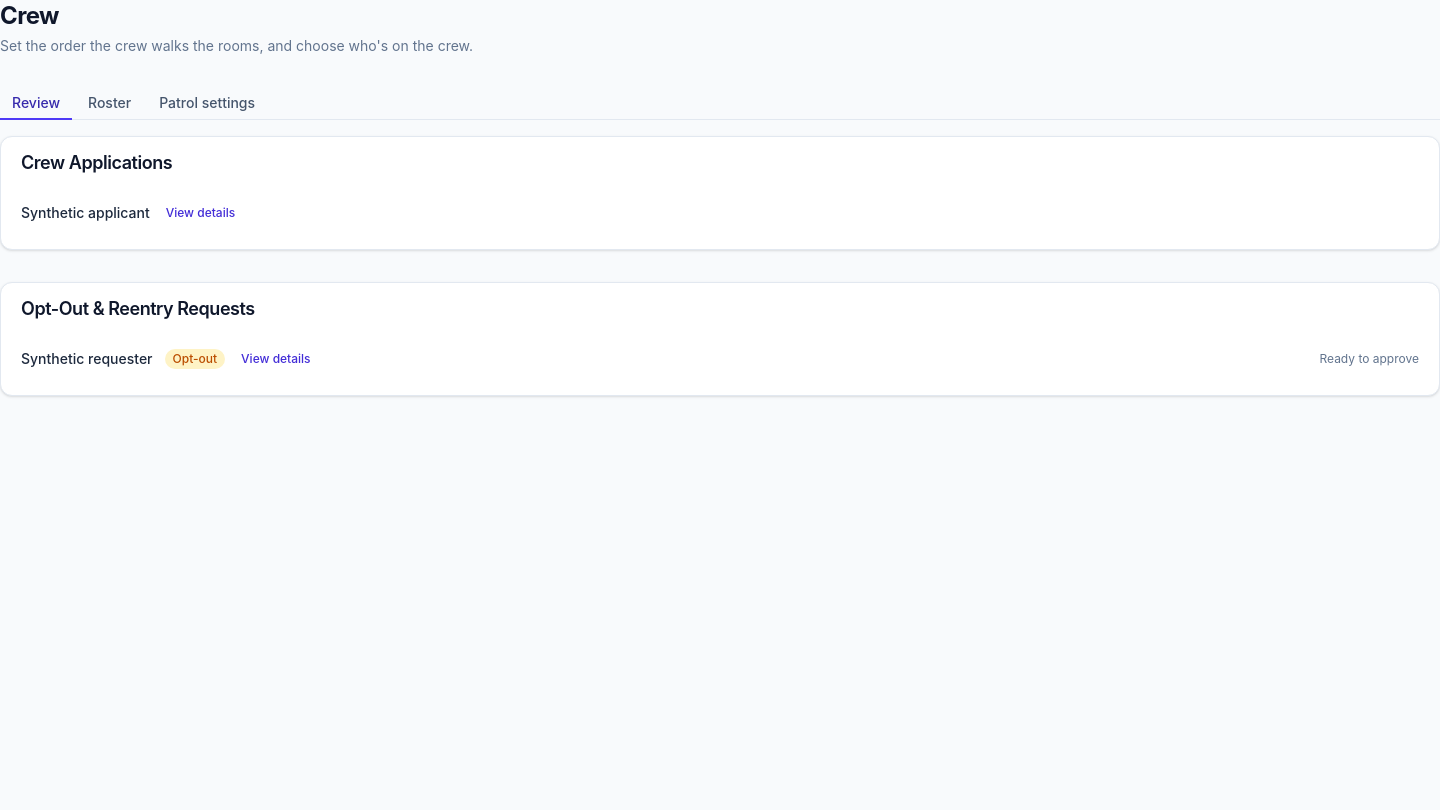
uses only current projected identity for a nameless crew summary (null)
Step 1. Click the tab "Roster" → x=110, y=104, box [76,88,143,120]
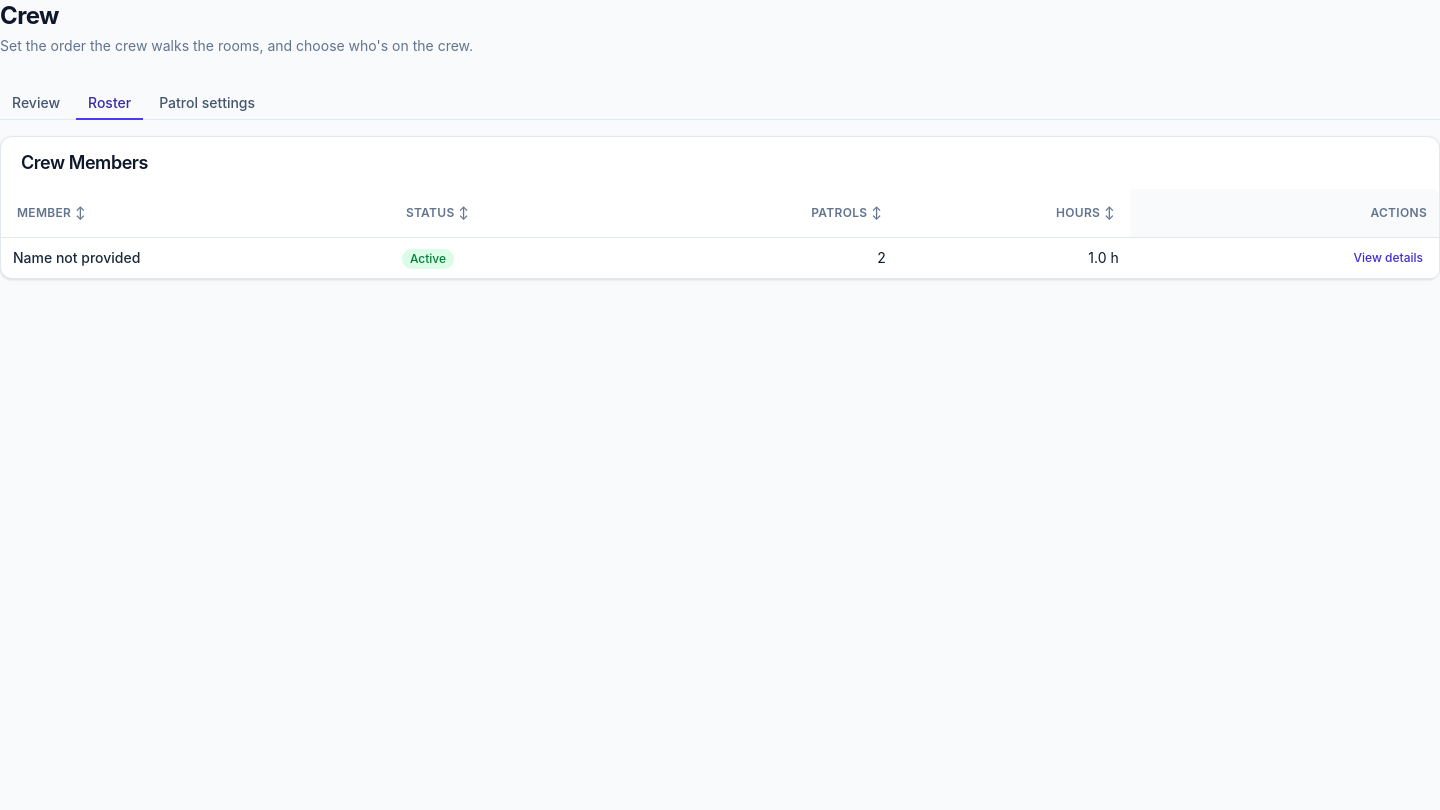
Expected: the cell "Name not provided" is shown, [1,238,390,278]
Step 2. Click the button "View details" → x=1388, y=258, box [1350,246,1427,270]
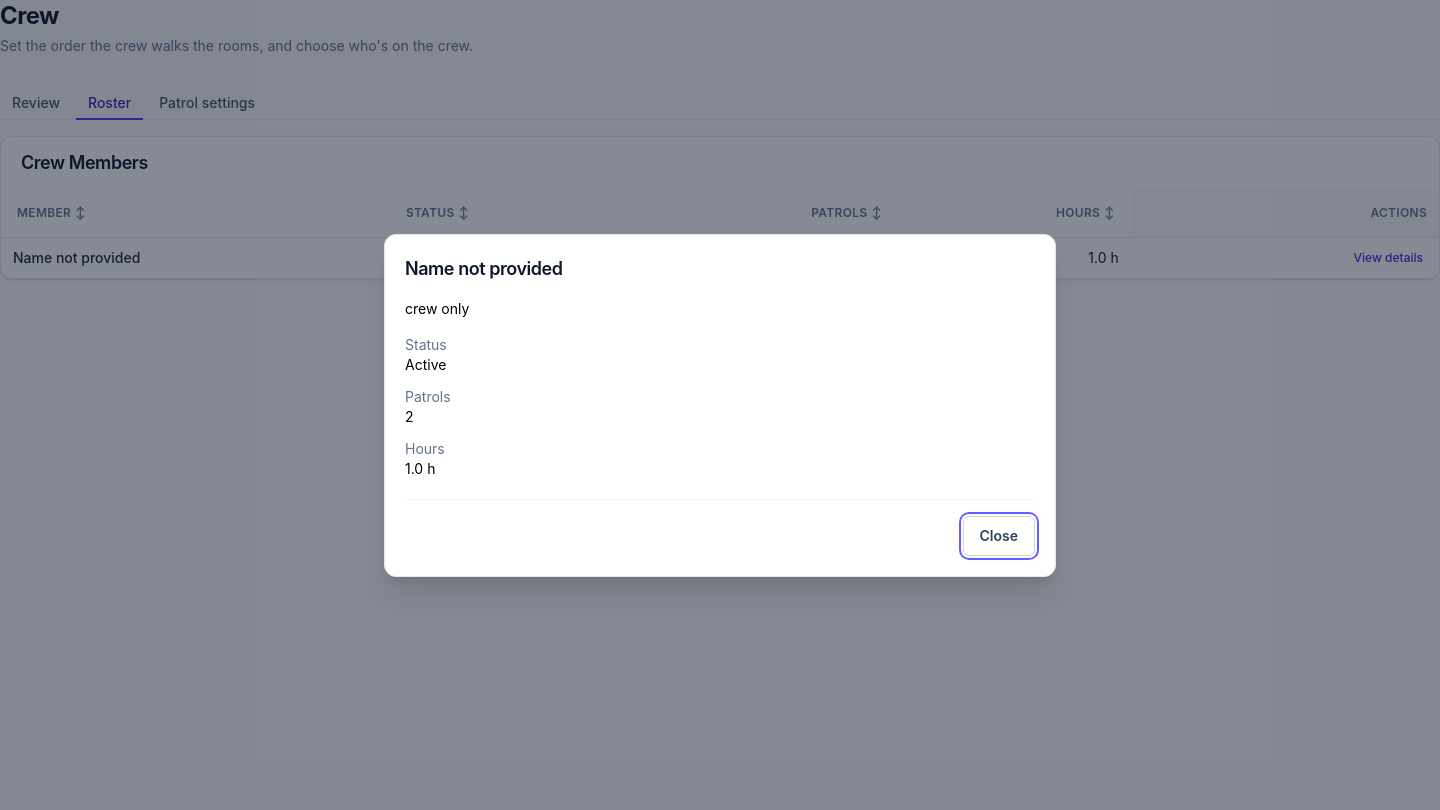
Expected: the dialog "Name not provided" is shown, [384,234,1056,576]
